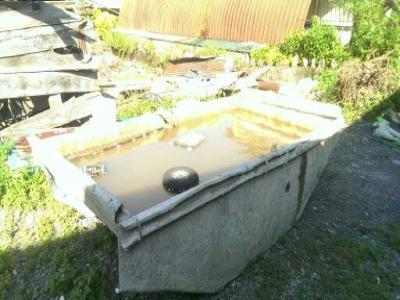tire: (161, 165, 199, 198)
